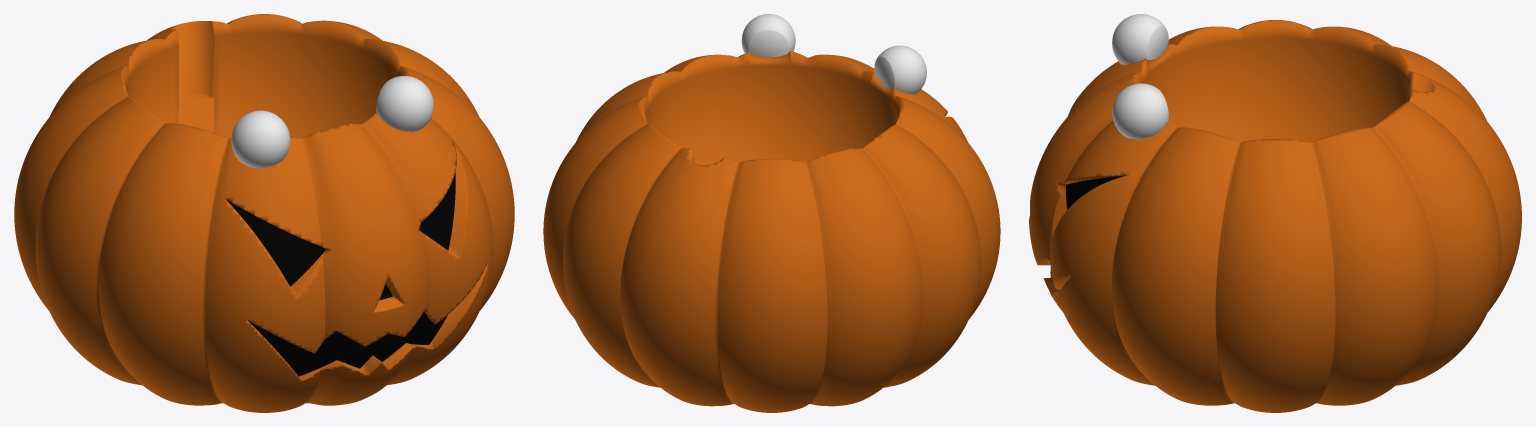
Rendered from calabaza.glb.
The picture shows the model from 3 angles, left to right: view 1: azimuth 30°, elevation 25°; view 2: azimuth 150°, elevation 25°; view 3: azimuth 270°, elevation 25°; orthographic projection. The views are drawn at different scales.
Parts seen in each view (by area): view 1: patas; view 2: patas; view 3: patas.
Part boxes in pixels (x1,y1,x2,y2): patas: (14, 14, 514, 412); patas: (543, 14, 1000, 412); patas: (1029, 14, 1521, 412).
Bounding box in the file's own units: 55.15 × 35.56 × 55.14.
